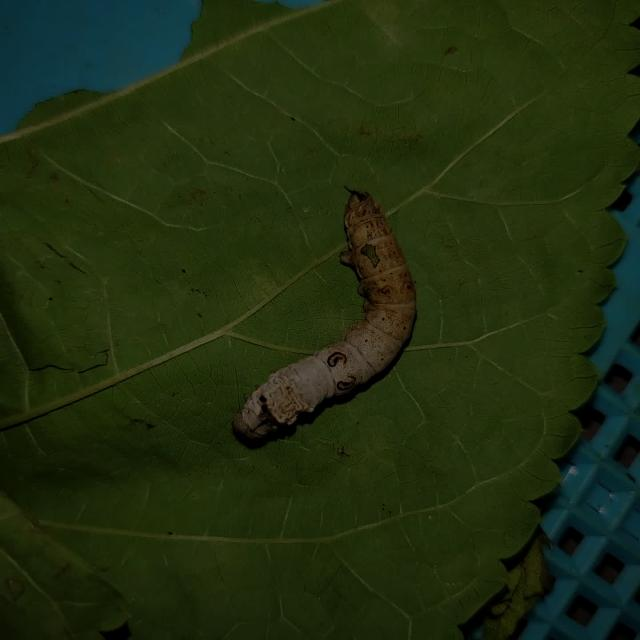Grasserie: (188, 160, 457, 469)
